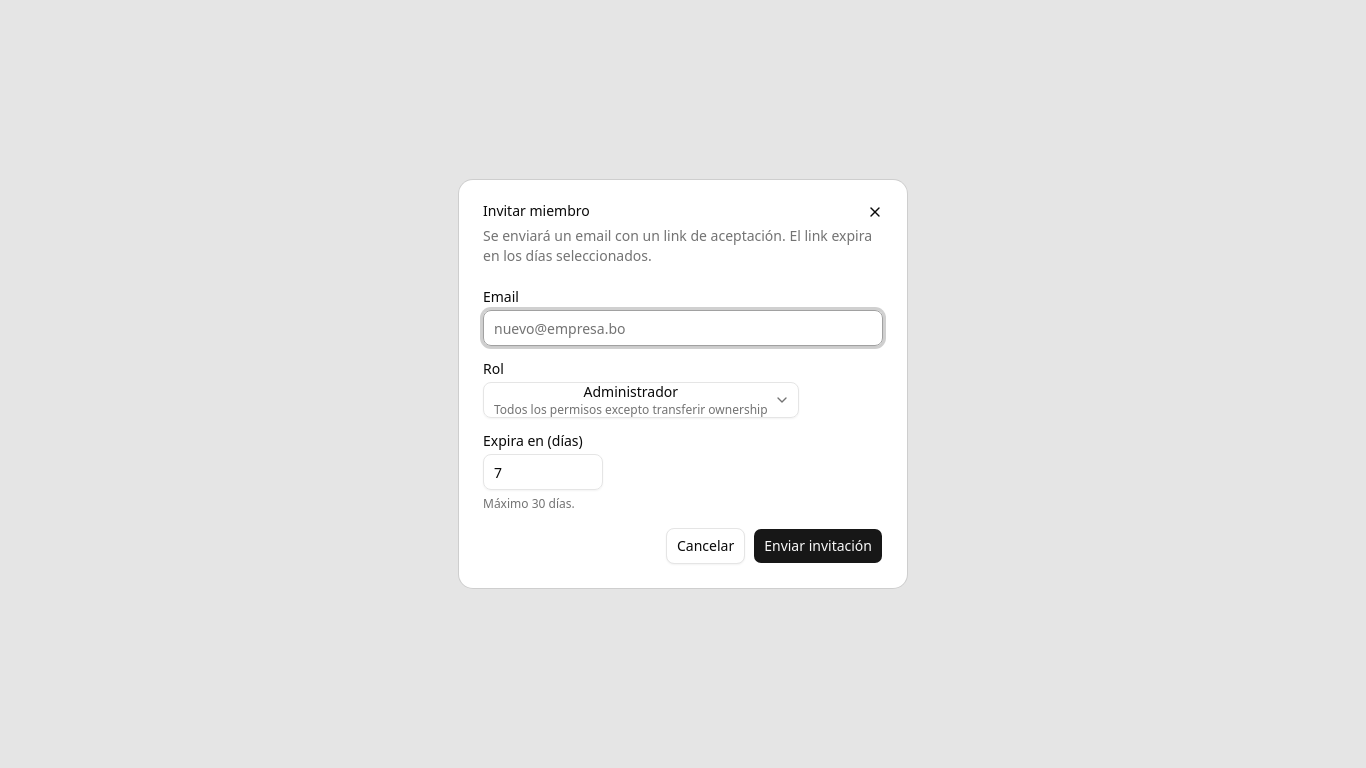
Scenario: InviteMemberDialog › OWNER aparece cuando el hook lo incluye
Click the dropdown. click: (641,400)
box: [483, 382, 799, 418]
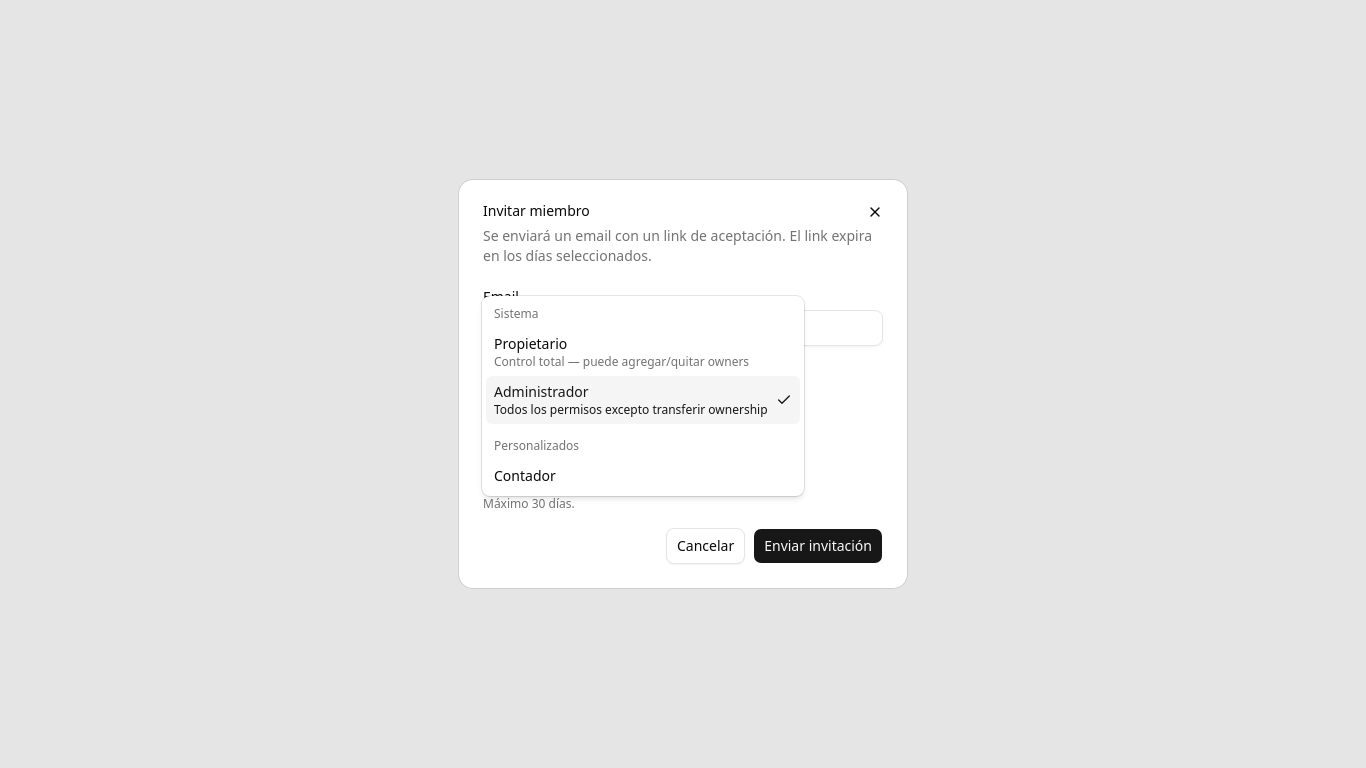
Expected: the option "Propietario Control total — puede agregar/quitar owners" is shown, [494, 334, 749, 370]
